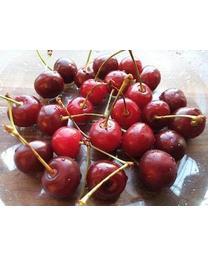cherry: (41, 157, 82, 199), (86, 161, 127, 201), (139, 151, 178, 189), (13, 140, 54, 172), (121, 124, 155, 157), (8, 94, 40, 127), (90, 118, 121, 152), (154, 129, 187, 160), (37, 105, 68, 137), (51, 126, 82, 157), (173, 107, 205, 137), (103, 69, 135, 98), (111, 97, 141, 127), (80, 79, 109, 107), (34, 72, 64, 98), (68, 97, 95, 124), (144, 101, 171, 127), (124, 82, 152, 106), (53, 57, 75, 83), (138, 66, 161, 89)
